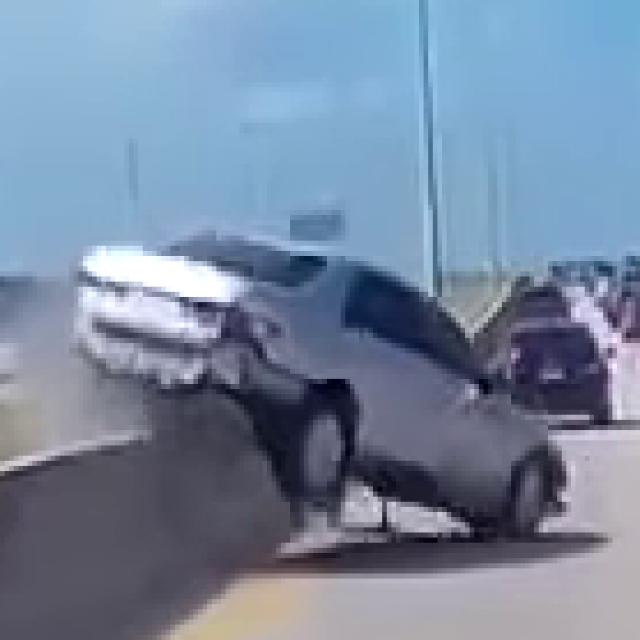accident: (64, 222, 571, 537)
